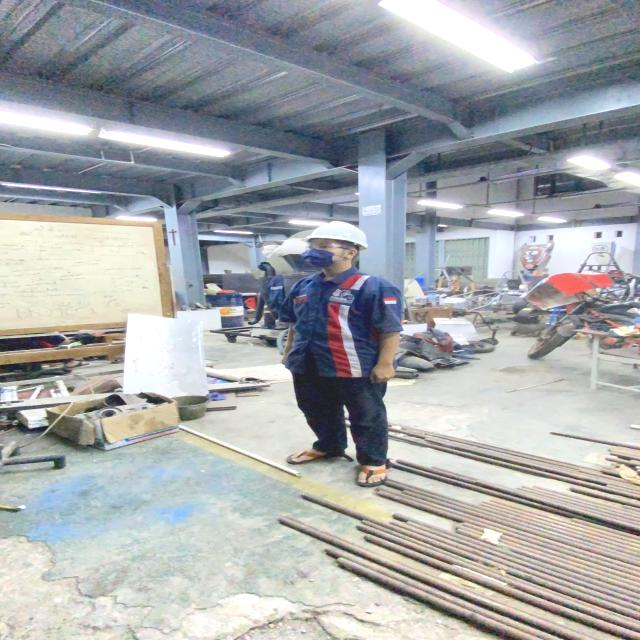face_mask: (299, 239, 342, 269)
glasses: (302, 238, 352, 250)
hand_noglove: (366, 366, 398, 386)
head_helmet: (305, 220, 370, 247)
person: (271, 222, 410, 488)
